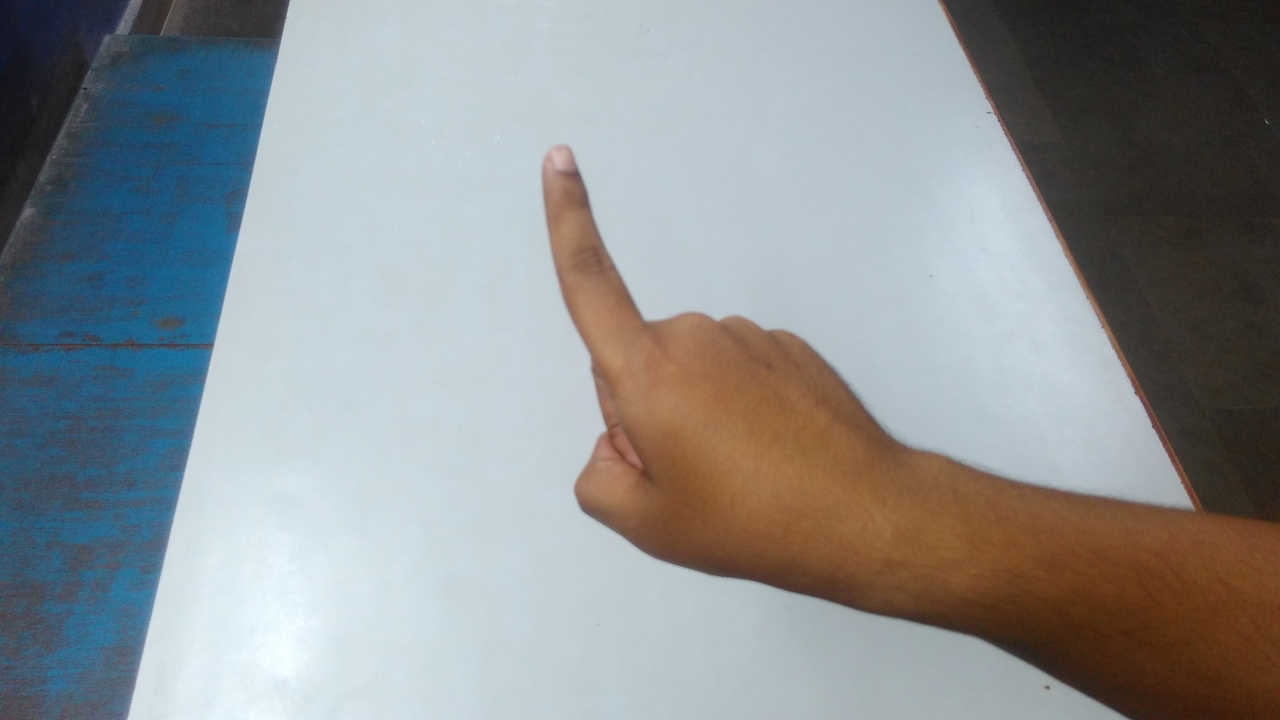fingertip: (530, 132, 592, 184)
